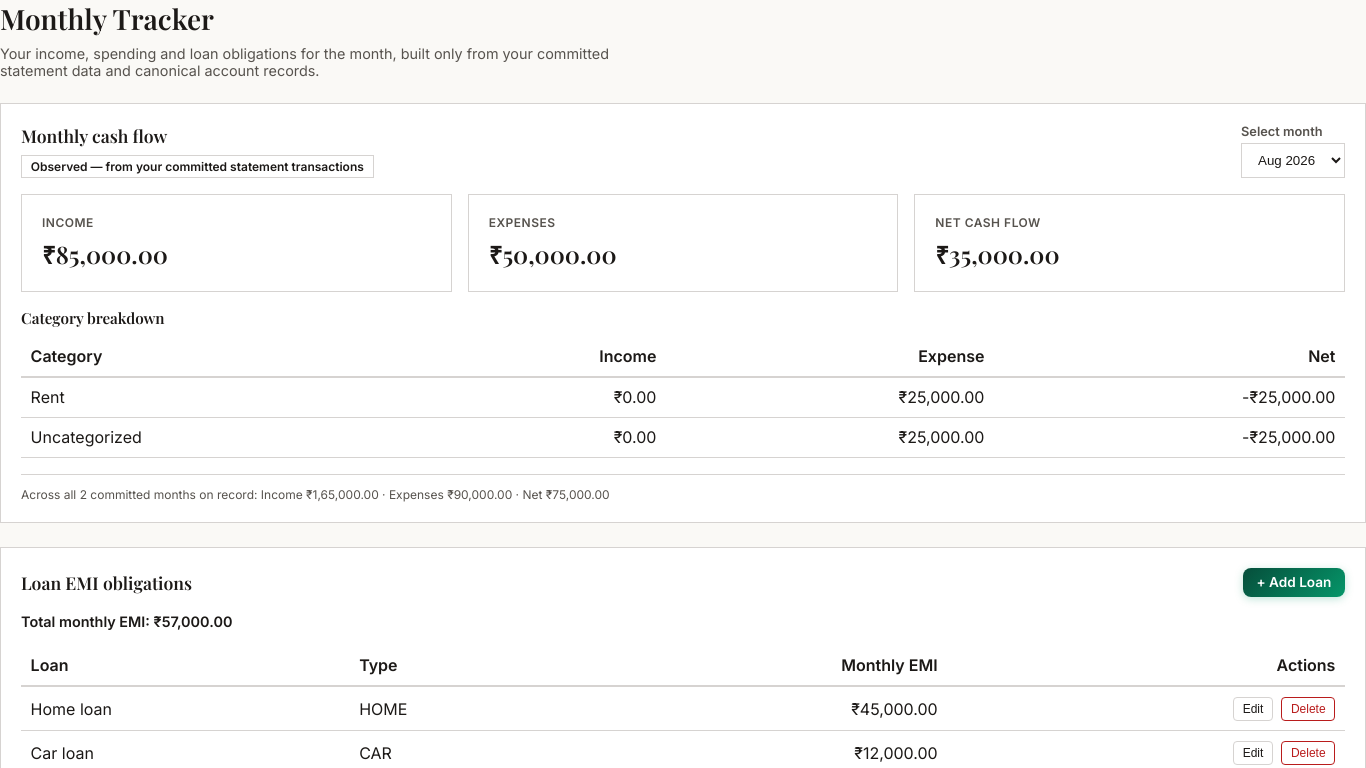
Test: MonthlyTracker page (canonical data only, no fabricated figures) › loan management: adds a new loan via Add Loan modal
Click the button with test id "add-loan-btn" at x=1294, y=582, box [1243, 568, 1345, 597]
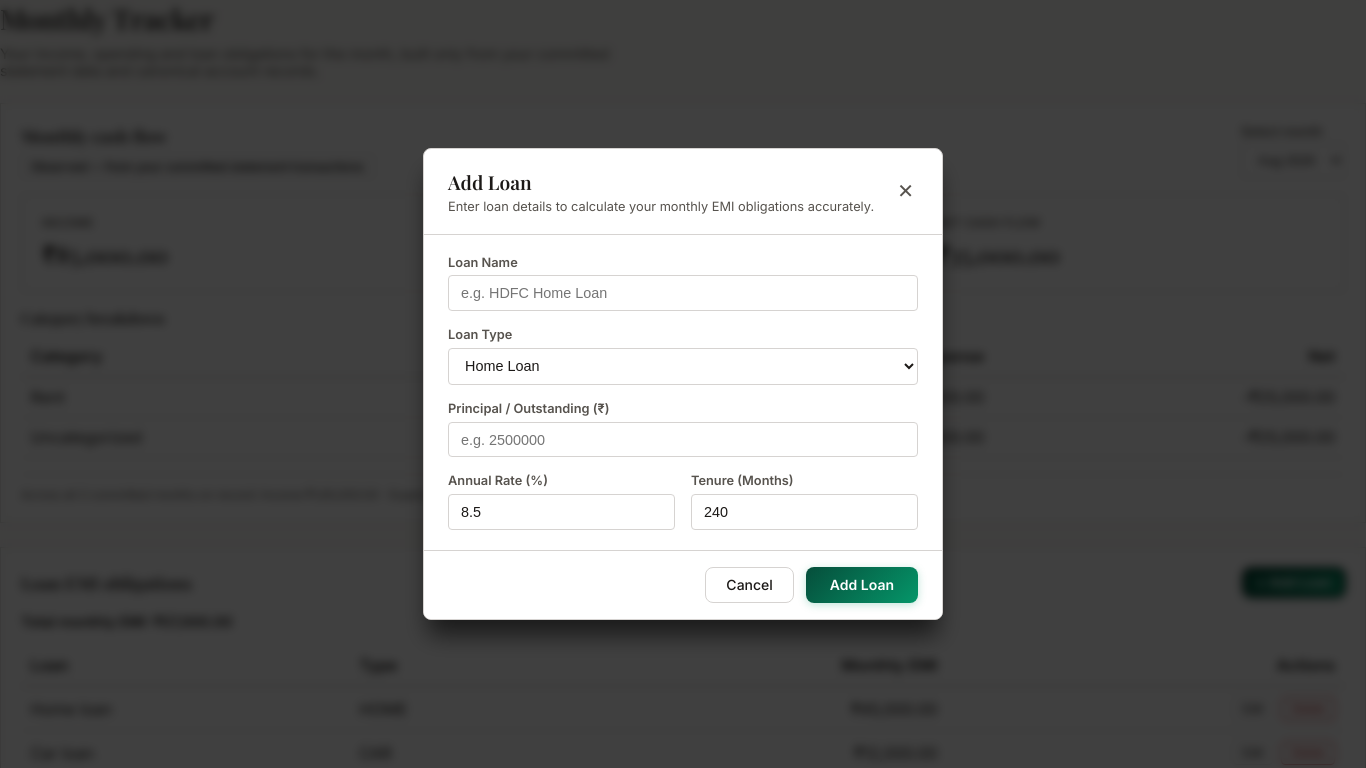
Expected: the dialog with test id "loan-modal" is shown
Expected: the heading "Add Loan" is shown, [448, 169, 532, 195]
Type "Education Loan" into the field labelled "Loan Name" at x=683, y=293, box [448, 275, 918, 311]
Select "Education Loan" in the dropdown labelled "Loan Type" at x=683, y=366, box [448, 348, 918, 385]
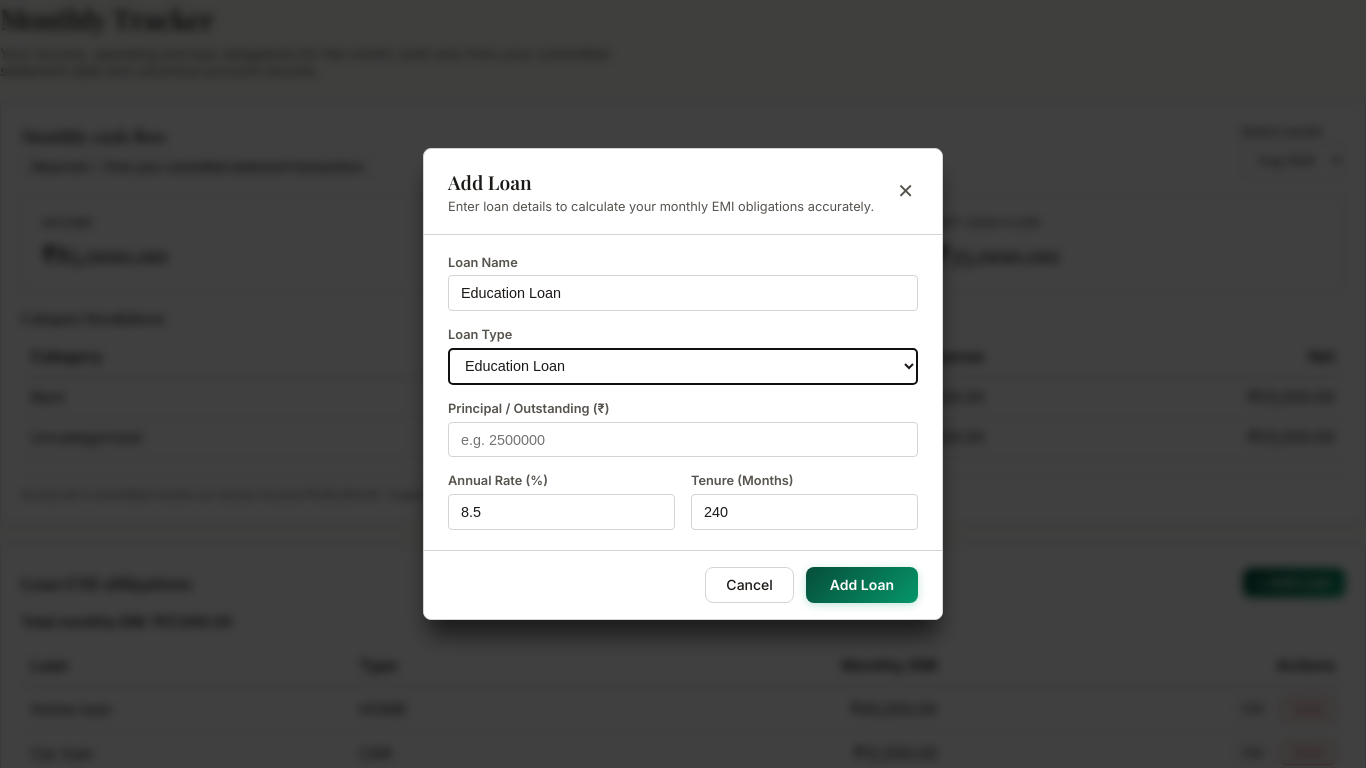
Type "500000" into the number field labelled "Principal / Outstanding (₹)" at x=683, y=440, box [448, 422, 918, 457]
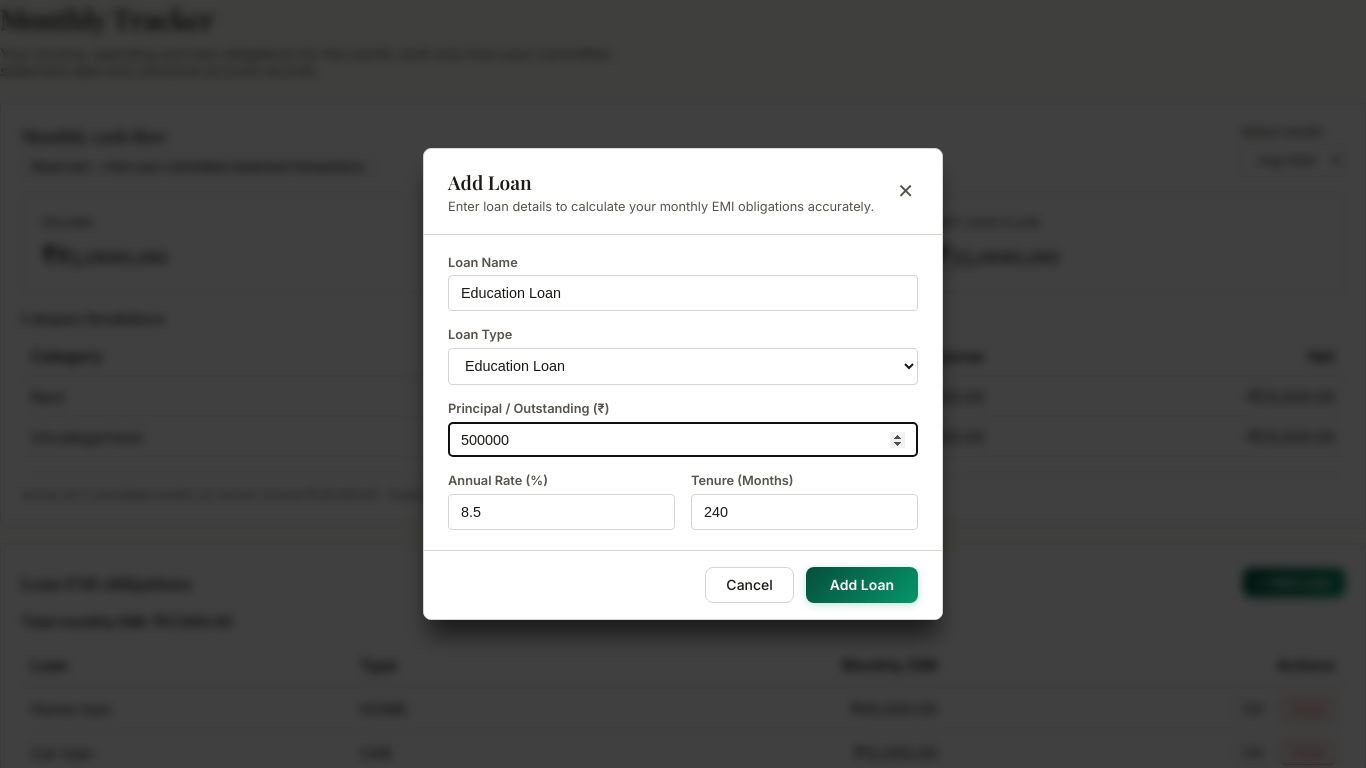
Replace the text in the number field labelled "Annual Rate (%)" with "9.5" at x=562, y=512, box [448, 494, 675, 530]
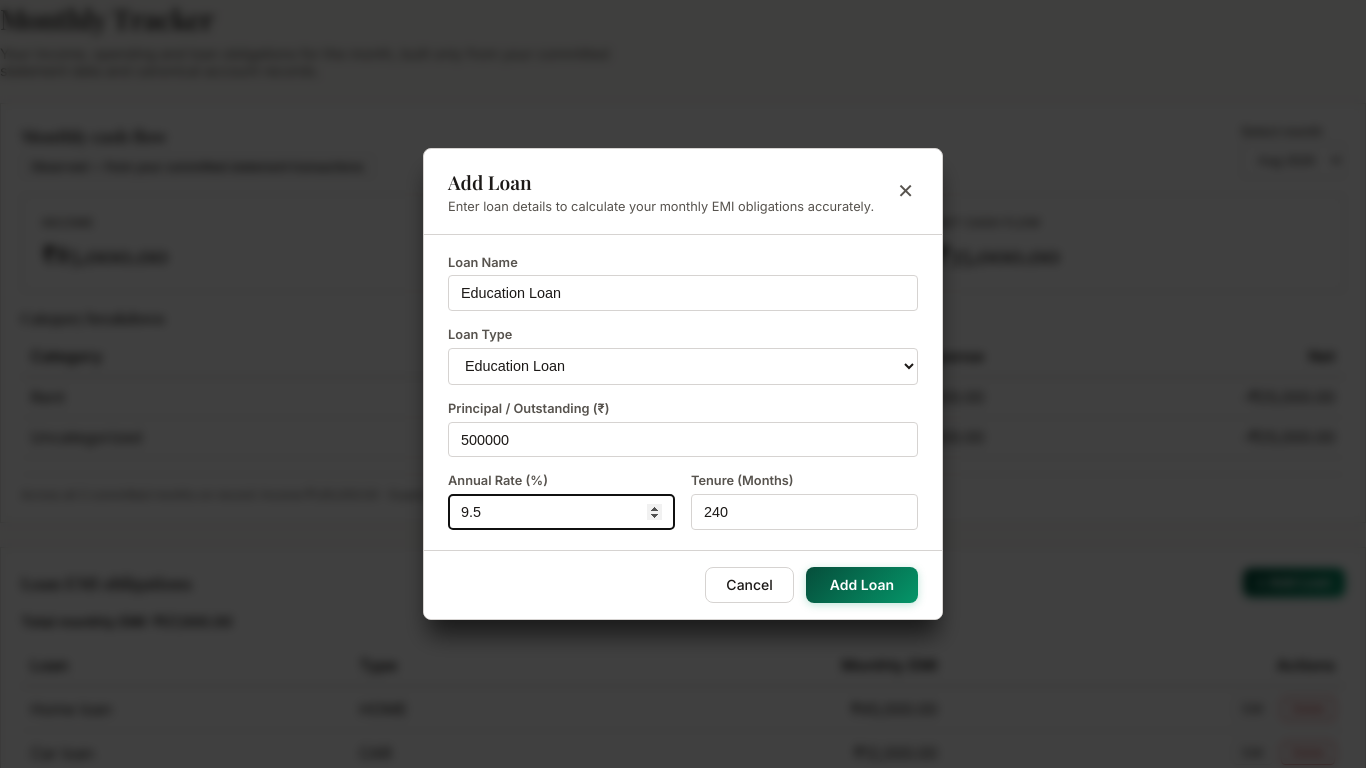
Replace the text in the number field labelled "Tenure (Months)" with "60" at x=804, y=512, box [691, 494, 918, 530]
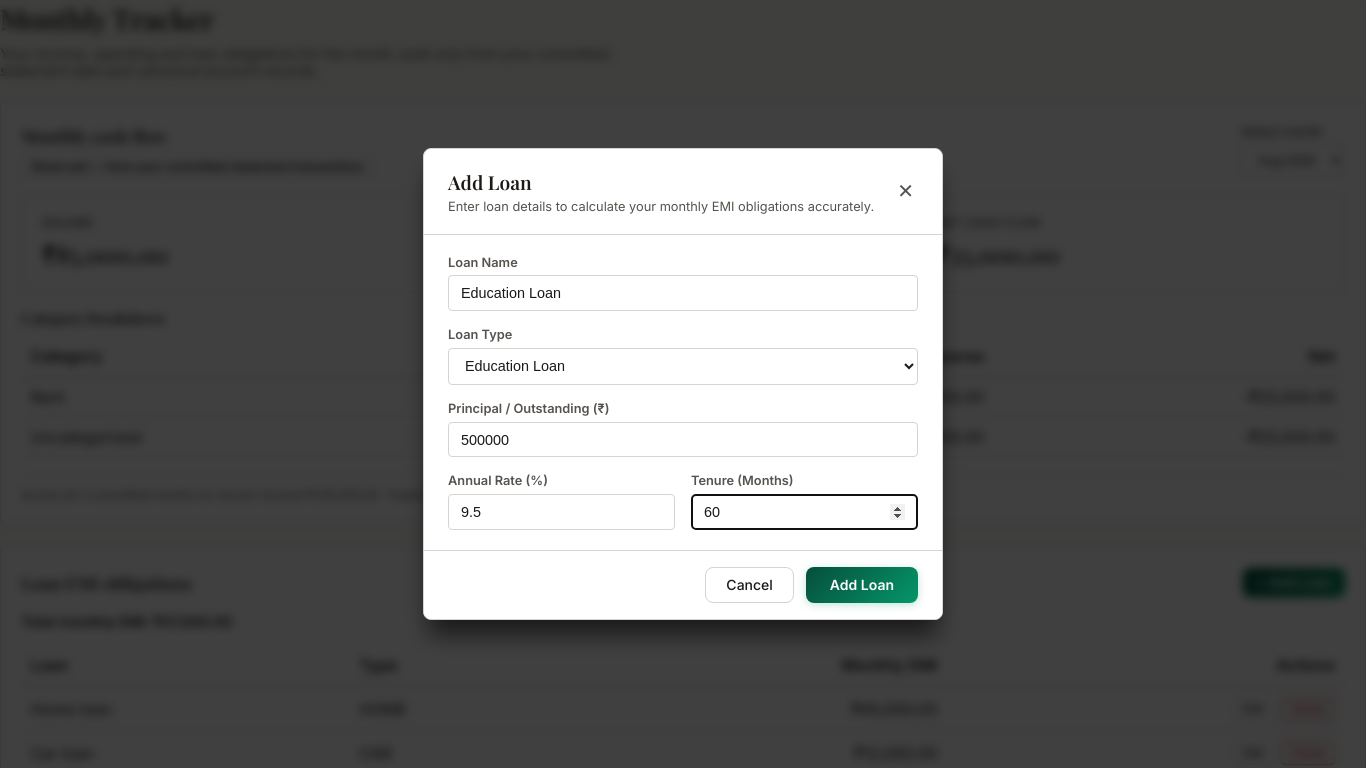
Click the button with test id "save-loan-btn" at x=862, y=585, box [806, 567, 918, 603]
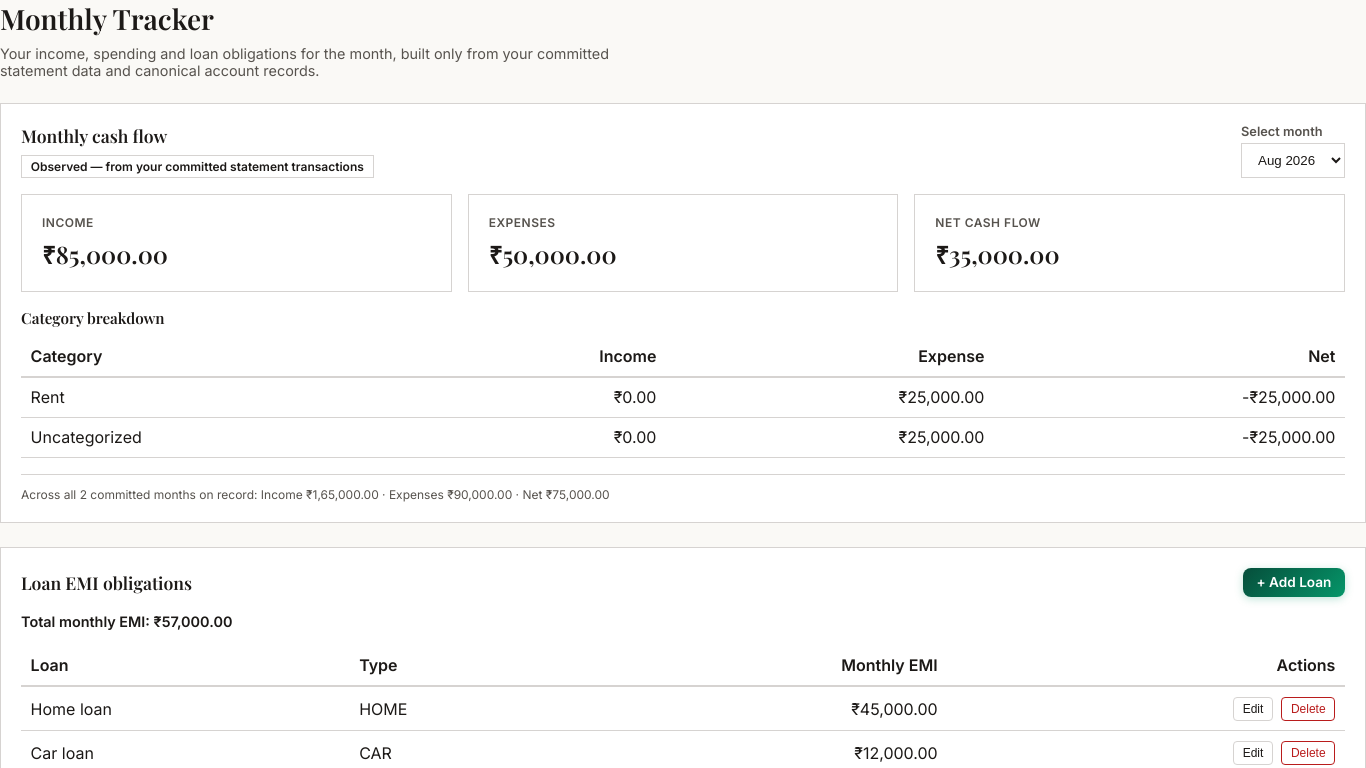
Expected: the dialog with test id "loan-modal" is gone
